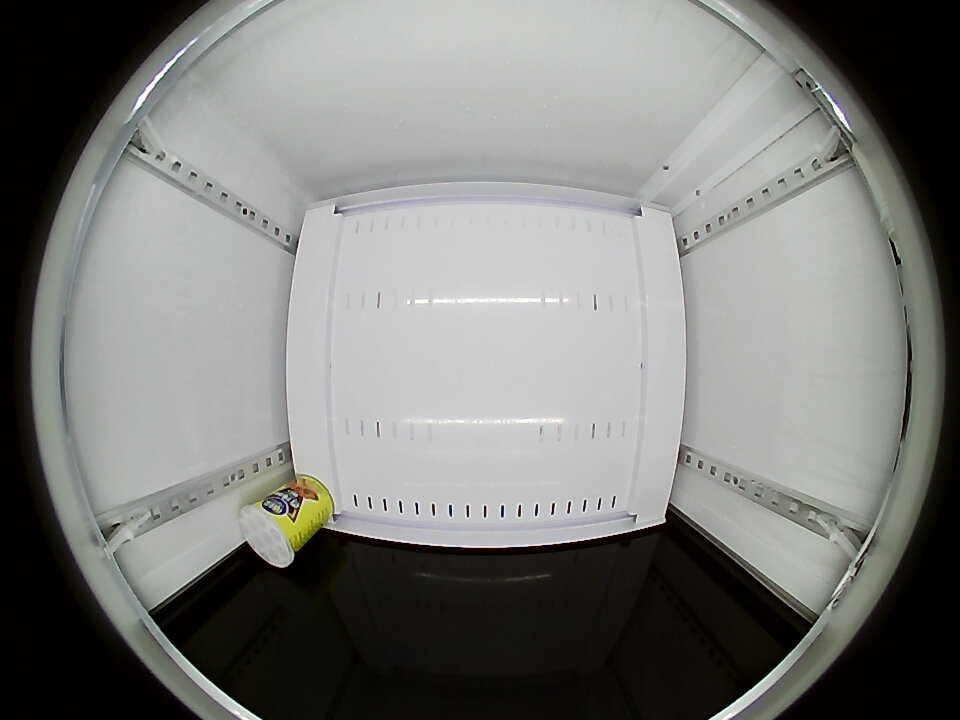kebike: (238, 499, 302, 567)
